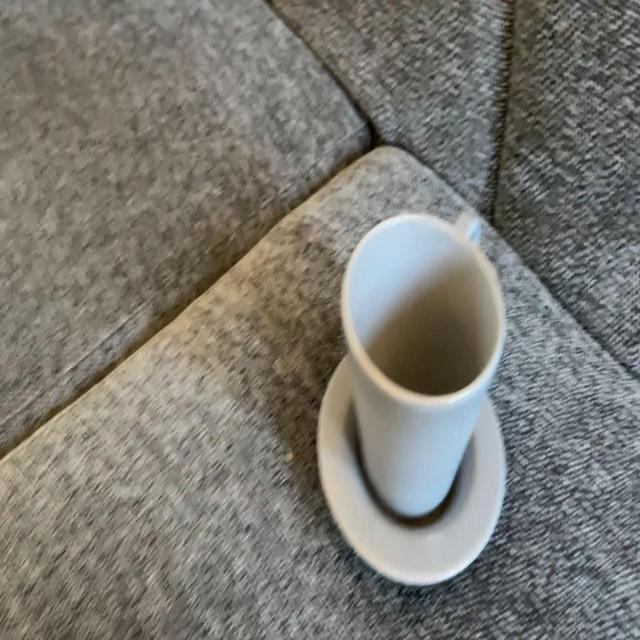cup: (331, 212, 514, 552)
